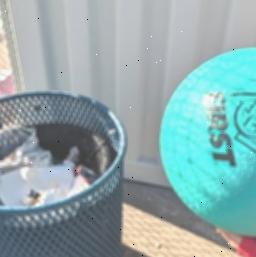algae: (157, 46, 256, 235)
